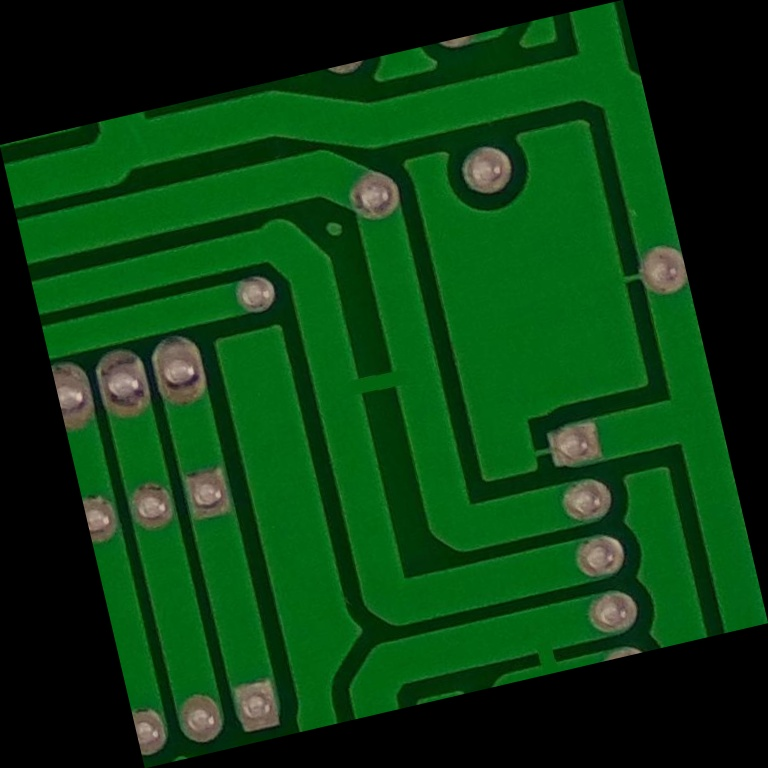short: (305, 314, 464, 455)
